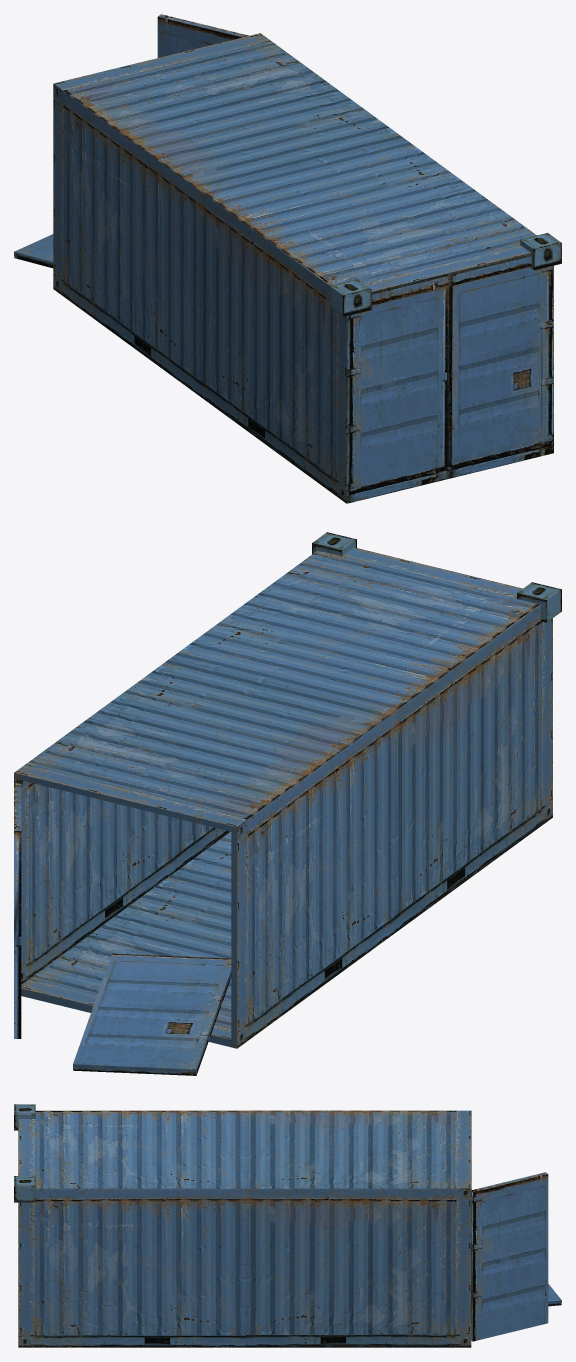
File: Cover_Container04.glb
The picture shows the model from 3 angles, top to bottom: view 1: azimuth 30°, elevation 25°; view 2: azimuth 150°, elevation 25°; view 3: azimuth 270°, elevation 25°; orthographic projection. The views are drawn at different scales.
Parts seen in each view (by area): view 1: xiutz_container04; view 2: xiutz_container04; view 3: xiutz_container04.
Part boxes in pixels (x1,y1,x2,y2): xiutz_container04: (14, 14, 561, 503); xiutz_container04: (14, 532, 561, 1075); xiutz_container04: (14, 1104, 561, 1347).
Bounding box in the file's own units: 4.81 × 4.47 × 13.57.
1 material, 1 textured.
